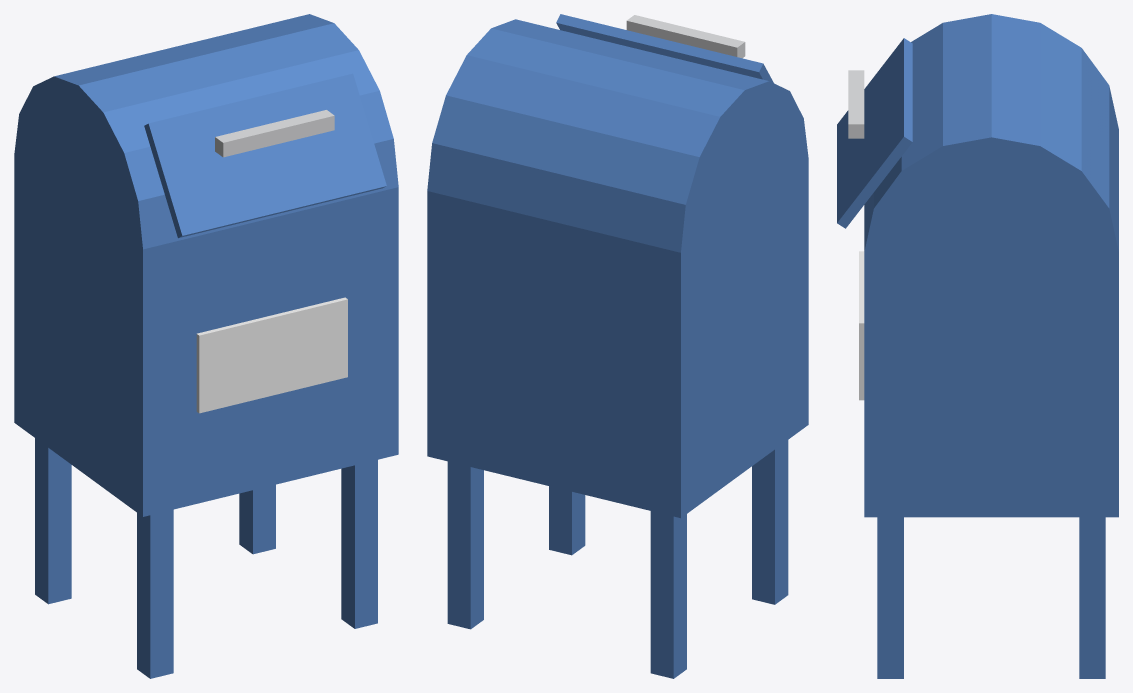
File: mailbox_usps.glb
The picture shows the model from 3 angles, left to right: view 1: azimuth 30°, elevation 25°; view 2: azimuth 150°, elevation 25°; view 3: azimuth 270°, elevation 25°; orthographic projection.
Visible parts, largest first — view 1: mailbox_usps; view 2: mailbox_usps; view 3: mailbox_usps.
Part boxes in pixels (x1,y1,x2,y2): mailbox_usps: (14, 14, 398, 678); mailbox_usps: (427, 14, 808, 678); mailbox_usps: (837, 14, 1118, 678).
Size of the model in its own units: 0.55 by 1.14 by 0.5313.
